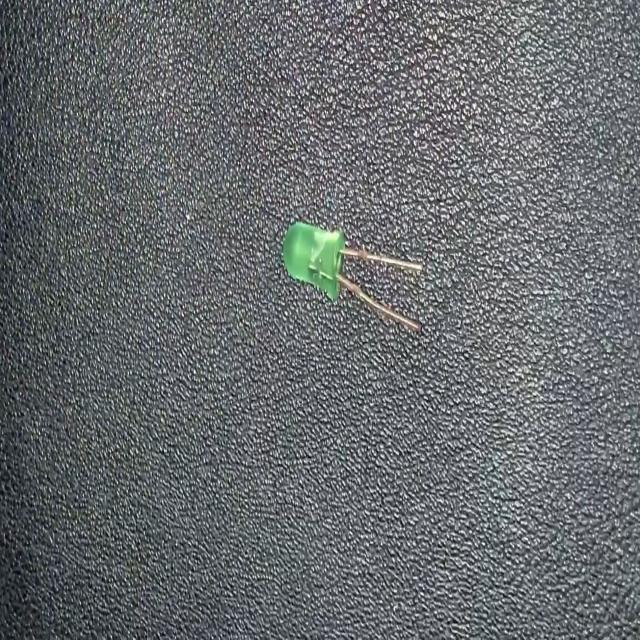LED: (280, 218, 424, 337)
